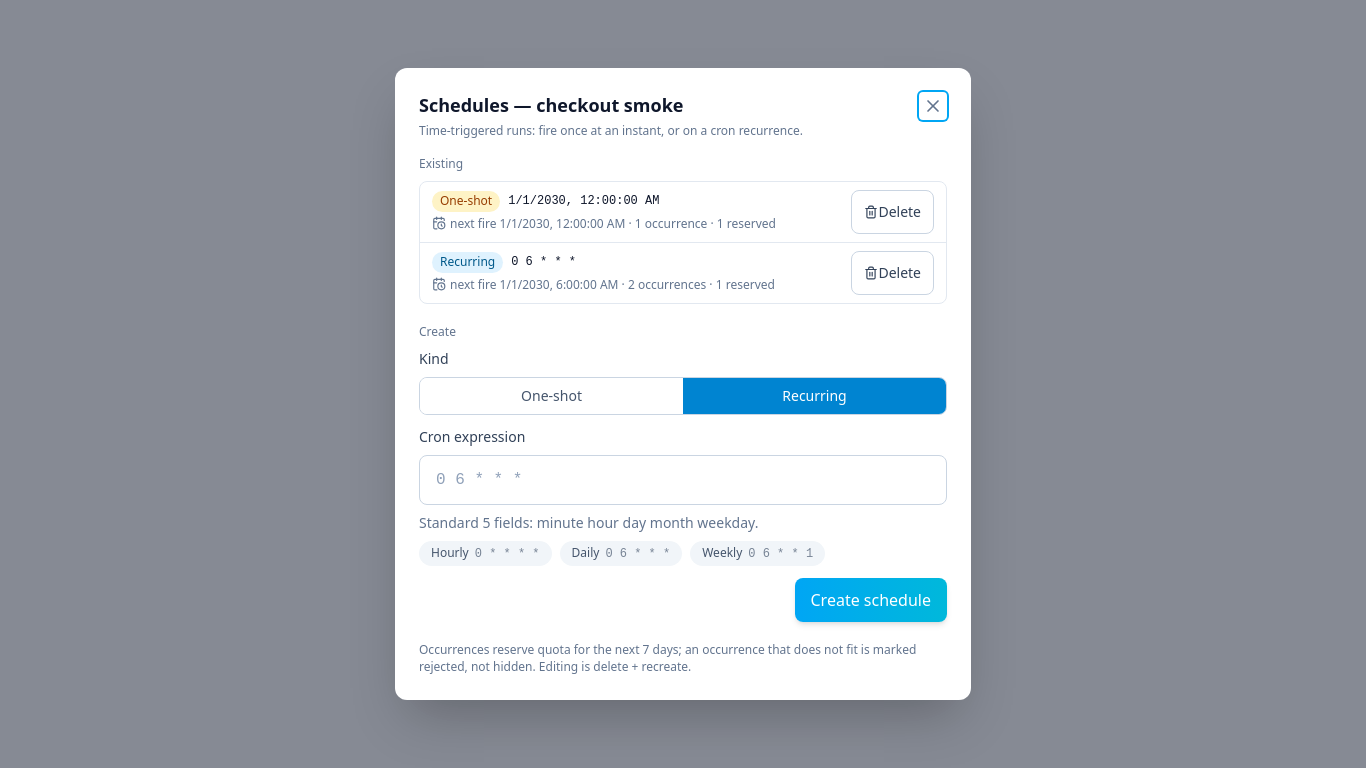
Scenario: ScheduleModal create errors (server) › renders a plain API error message inline
Click the button "Hourly0 * * * *". click: (485, 553)
box: [419, 540, 552, 566]
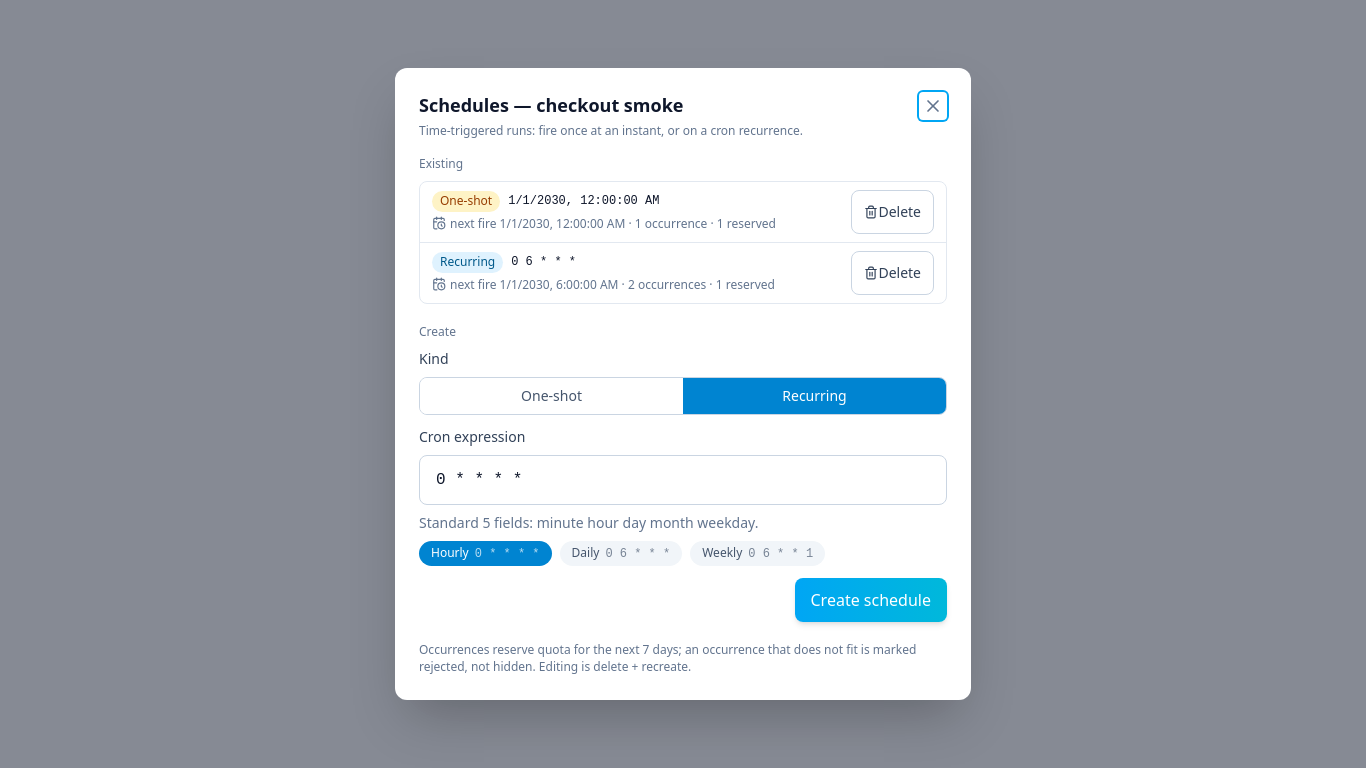
Click the button "Create schedule". click: (871, 600)
box: [794, 578, 947, 622]
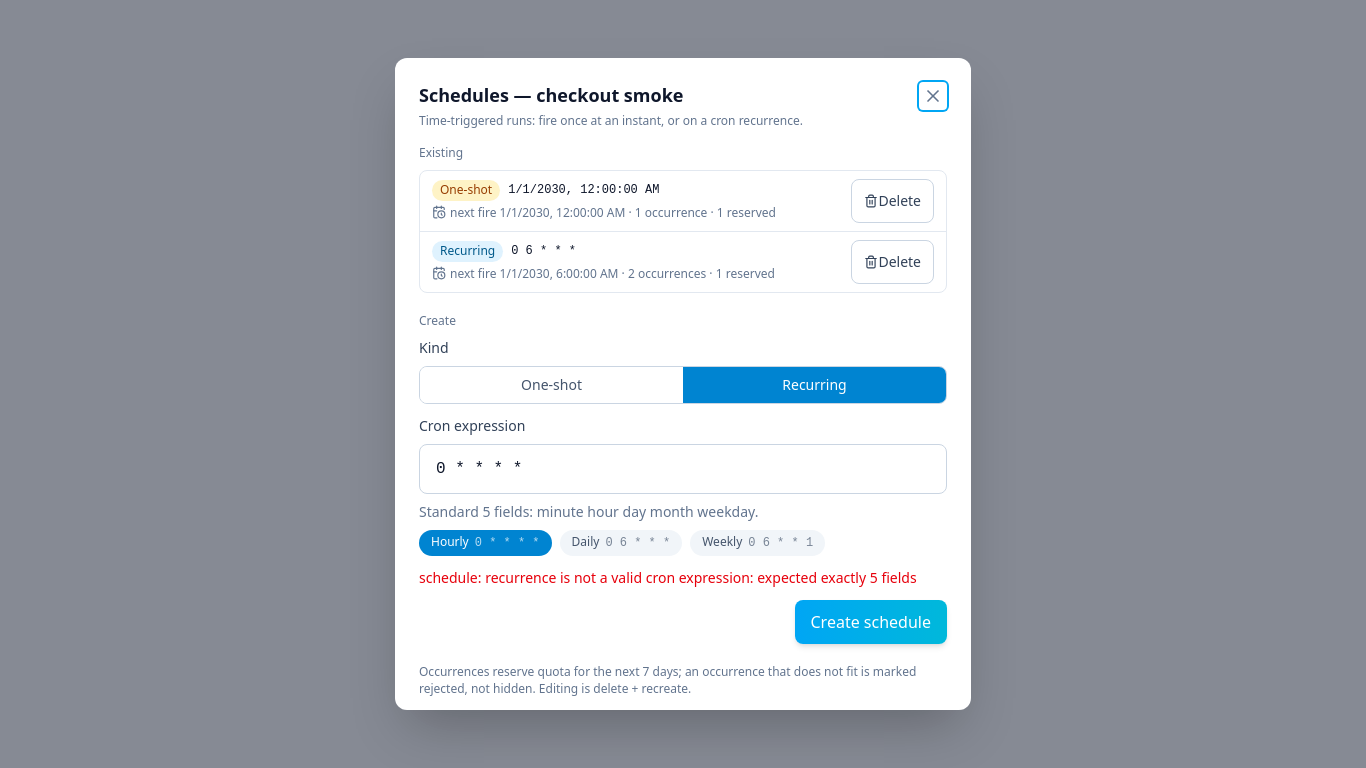
Result: the text "not a valid cron expression" is shown at [419, 568, 917, 587]
